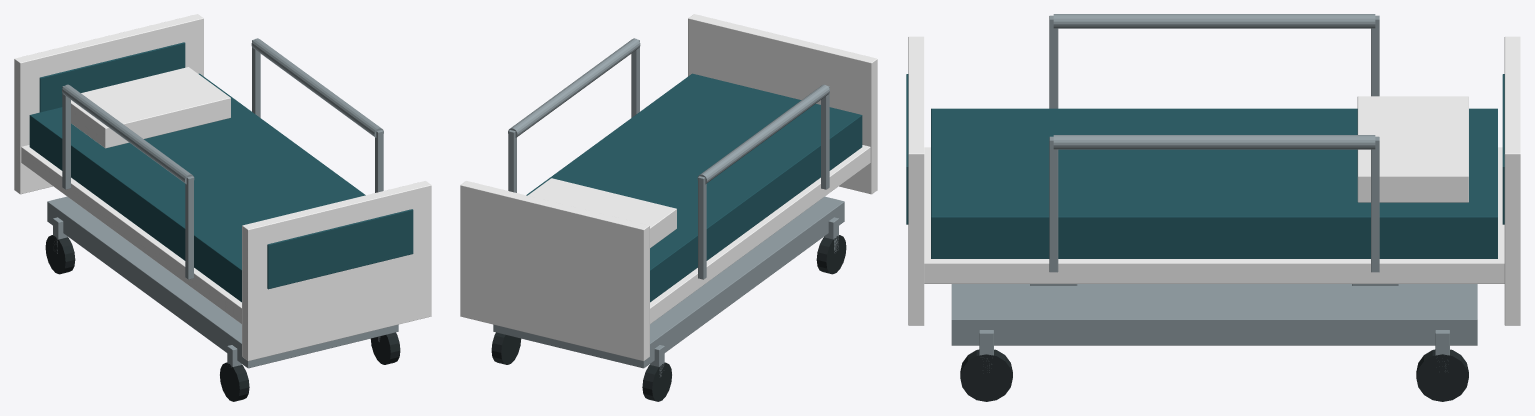
File: hospital-bed.glb
The picture shows the model from 3 angles, left to right: view 1: azimuth 30°, elevation 25°; view 2: azimuth 150°, elevation 25°; view 3: azimuth 270°, elevation 25°; orthographic projection. The views are drawn at different scales.
Visible parts, largest first — view 1: Mattress, End_Post, Chassis, End_Post.001, Pillow, Inset, Deck, Inset.001, Safety_Rail.001, Safety_Rail, Caster.002, Caster.001 (+5 smaller); view 2: Mattress, End_Post.001, End_Post, Chassis, Deck, Pillow, Safety_Rail.001, Safety_Rail, Caster.001, Caster.002, Rail_Upright.001, Rail_Upright (+3 smaller); view 3: Mattress, Chassis, Deck, Pillow, End_Post, End_Post.001, Safety_Rail, Safety_Rail.001, Caster.003, Caster, Rail_Upright.002, Rail_Upright.003 (+2 smaller).
Boxes of the visible parts, x1,y1,x2,y2 form: Mattress: [29, 73, 365, 302]; End_Post: [242, 181, 431, 361]; Chassis: [47, 196, 398, 368]; End_Post.001: [14, 14, 203, 194]; Pillow: [71, 67, 230, 148]; Inset: [267, 209, 413, 289]; Deck: [21, 145, 241, 323]; Inset.001: [39, 42, 185, 112]; Safety_Rail.001: [251, 38, 383, 137]; Safety_Rail: [62, 84, 194, 184]; Caster.002: [45, 235, 75, 274]; Caster.001: [220, 362, 249, 401]; Mattress: [526, 73, 862, 302]; End_Post.001: [460, 181, 649, 361]; End_Post: [688, 14, 877, 194]; Chassis: [493, 196, 844, 368]; Deck: [650, 145, 870, 323]; Pillow: [528, 178, 676, 247]; Safety_Rail.001: [508, 38, 640, 137]; Safety_Rail: [697, 84, 829, 184]; Caster.001: [816, 235, 846, 274]; Caster.002: [642, 362, 671, 401]; Rail_Upright.001: [698, 176, 706, 279]; Rail_Upright: [821, 86, 829, 189]; Mattress: [931, 108, 1497, 258]; Chassis: [951, 284, 1477, 345]; Deck: [924, 147, 1504, 283]; Pillow: [1357, 96, 1468, 202]; End_Post: [908, 36, 924, 325]; End_Post.001: [1504, 36, 1520, 325]; Safety_Rail: [1053, 14, 1375, 28]; Safety_Rail.001: [1053, 135, 1375, 149]; Caster.003: [960, 349, 1012, 401]; Caster: [1416, 349, 1468, 401]; Rail_Upright.002: [1049, 136, 1058, 272]; Rail_Upright.003: [1371, 136, 1379, 272].
Size of the model in its own units: 1.03 by 1.04 by 2.1.
